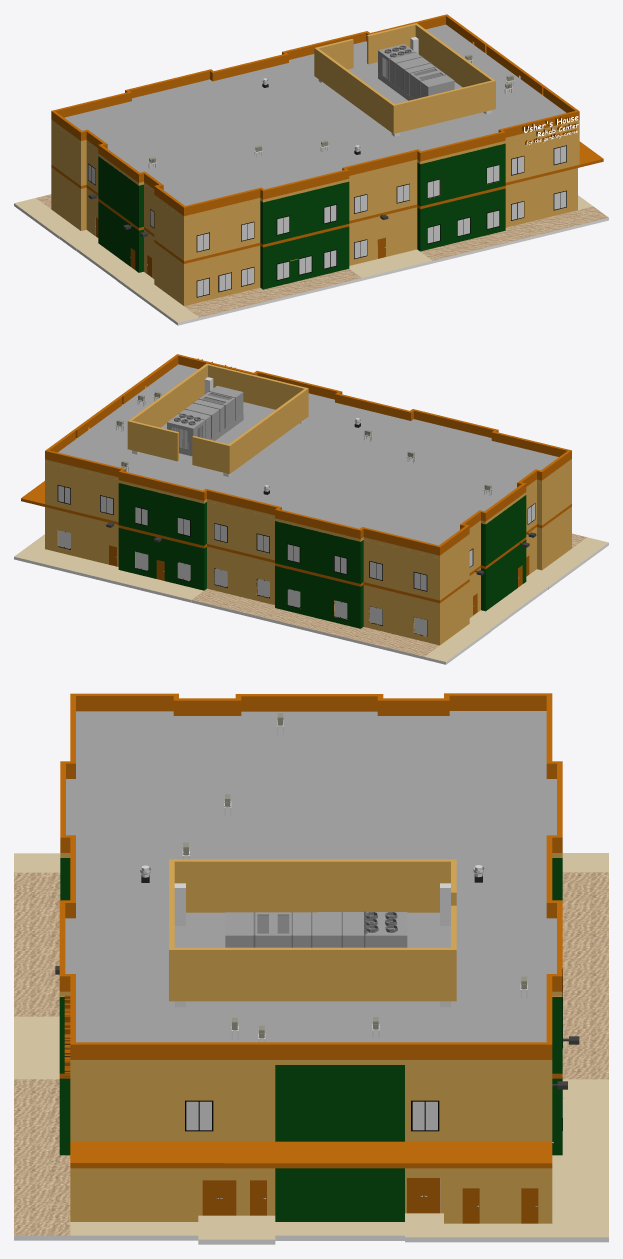
The model's file is Insane Asylum.glb.
3 renders of one model, top to bottom at view 1: azimuth 30°, elevation 25°; view 2: azimuth 150°, elevation 25°; view 3: azimuth 270°, elevation 25°, orthographic. The views are drawn at different scales.
Visible parts, largest first — view 1: Roof, Walls.001, Walls, Floor, Parapet, Screenwalls, Windows, RTU, Floor.001, Sign, Door, CUs; view 2: Roof, Walls.001, Walls, Floor, Parapet, Screenwalls, Windows, RTU, Floor.001, Door, CUs; view 3: Roof, Floor, Walls.001, Screenwalls, Parapet, Walls, Floor.001, RTU, Door, Windows, CUs.
Boxes of the visible parts, box(x1,y1,x2,y2) form: Roof: box(51, 24, 579, 218); Walls.001: box(51, 122, 579, 261); Walls: box(51, 167, 577, 306); Floor: box(14, 194, 608, 325); Parapet: box(51, 14, 579, 216); Screenwalls: box(314, 23, 495, 136); Windows: box(88, 145, 566, 297); RTU: box(378, 44, 454, 100); Floor.001: box(51, 141, 603, 263); Sign: box(522, 115, 578, 145); Door: box(95, 217, 385, 277); CUs: box(148, 54, 514, 168); Roof: box(45, 364, 571, 558); Walls.001: box(45, 462, 571, 600); Walls: box(45, 506, 571, 645); Floor: box(14, 533, 608, 664); Parapet: box(45, 354, 571, 555); Screenwalls: box(127, 363, 308, 476); Windows: box(57, 485, 535, 636); RTU: box(167, 385, 243, 456); Floor.001: box(21, 481, 571, 603); Door: box(109, 545, 529, 615); CUs: box(115, 391, 492, 495); Roof: box(59, 711, 562, 1064); Floor: box(14, 853, 608, 1244); Walls.001: box(59, 858, 562, 1141); Screenwalls: box(169, 859, 456, 1007); Parapet: box(59, 693, 562, 1059); Walls: box(59, 1078, 562, 1223); Floor.001: box(59, 1073, 562, 1168); RTU: box(225, 911, 407, 947); Door: box(202, 1097, 563, 1223); Windows: box(185, 969, 562, 1131); CUs: box(182, 713, 527, 1042).
Size of what is drawn, in the model's own units: 50.09 by 13.6 by 32.14.
23 materials, 1 textured.
